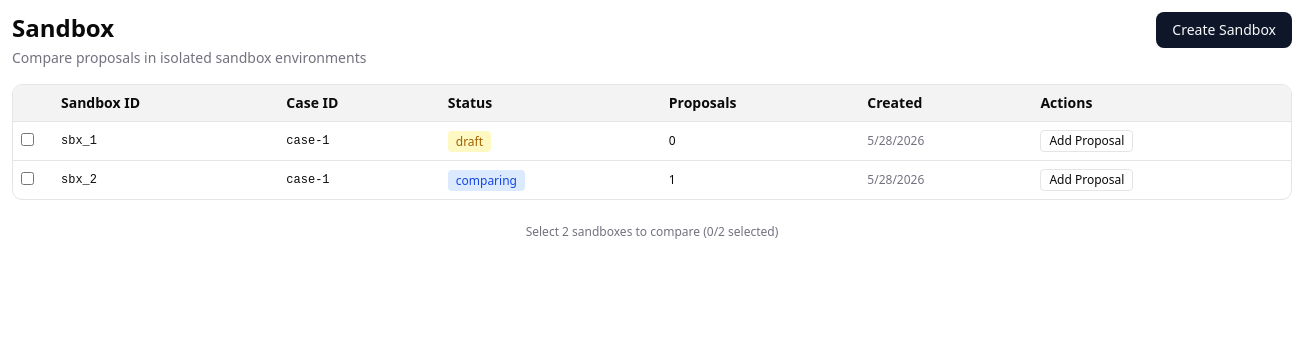
Test: SandboxCompare › shows no differences message when comparison has no diffs
This screenshot has width=1304, height=340.
expect the text "sbx_1" is shown: met, box [53,122,278,160]
Step 1. Click the checkbox next to "sbx_1" → (28, 140), box [21,133,34,146]
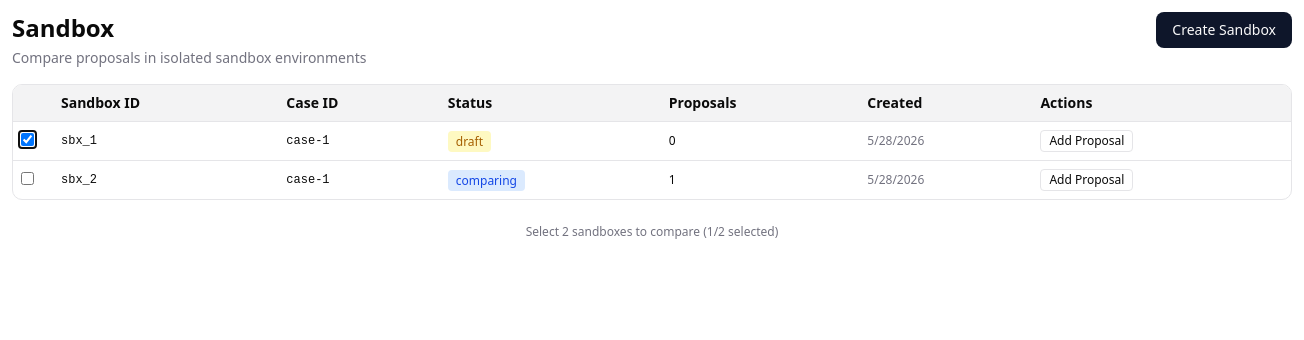
Step 2. Click the checkbox next to "sbx_2" → (28, 178), box [21,172,34,185]
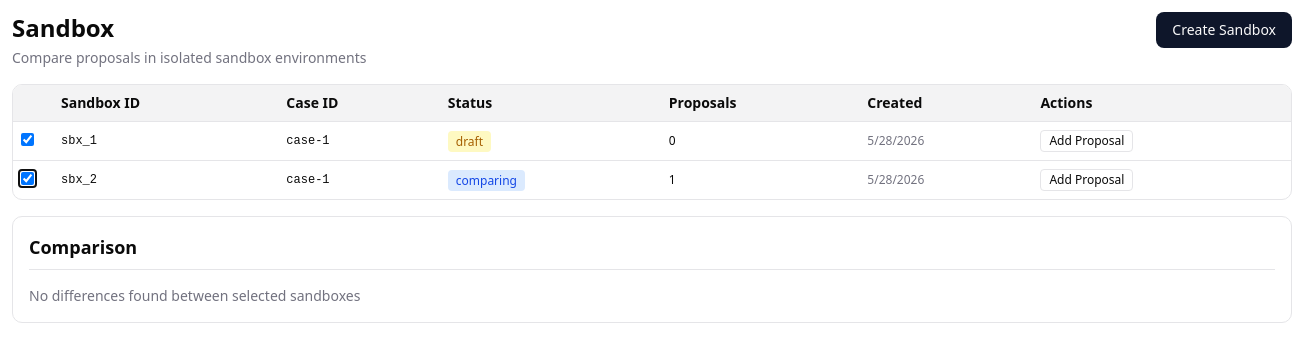
expect the text "No differences found between selected sandboxes" is shown: met, box [29,286,360,305]
